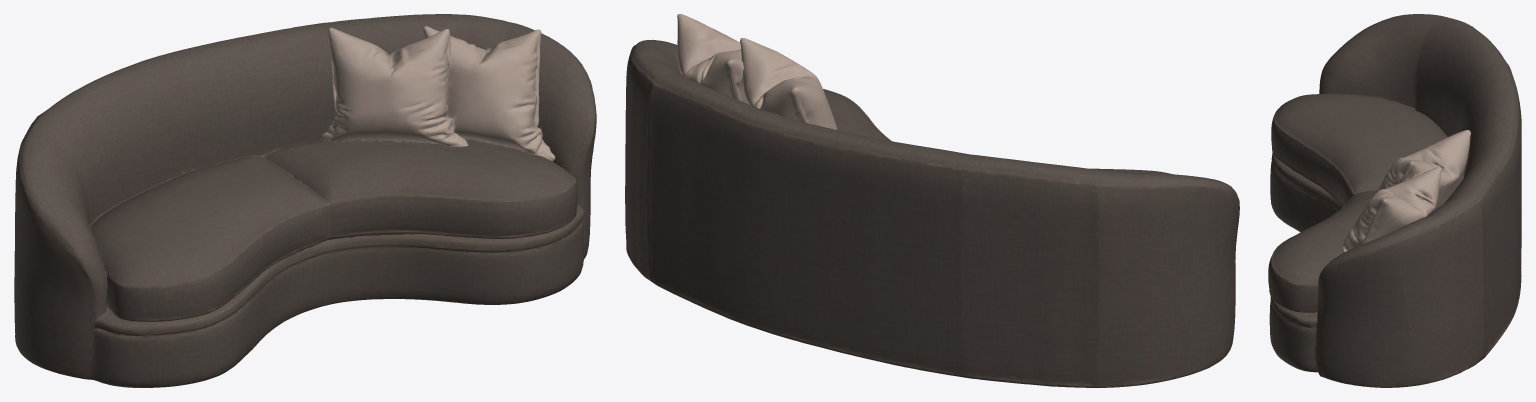
Rendered from 22_弧形休闲沙发.glb.
3 renders of one model, left to right at view 1: azimuth 30°, elevation 25°; view 2: azimuth 150°, elevation 25°; view 3: azimuth 270°, elevation 25°, orthographic. The views are drawn at different scales.
Parts seen in each view (by area): view 1: world; view 2: world; view 3: world.
Part boxes in pixels (x1=…): world: x1=14, y1=14, x2=596, y2=387; world: x1=625, y1=14, x2=1239, y2=387; world: x1=1268, y1=14, x2=1521, y2=387.
Size of the model in its own units: 1 by 0.3693 by 0.4688.
1 material, 1 textured.
